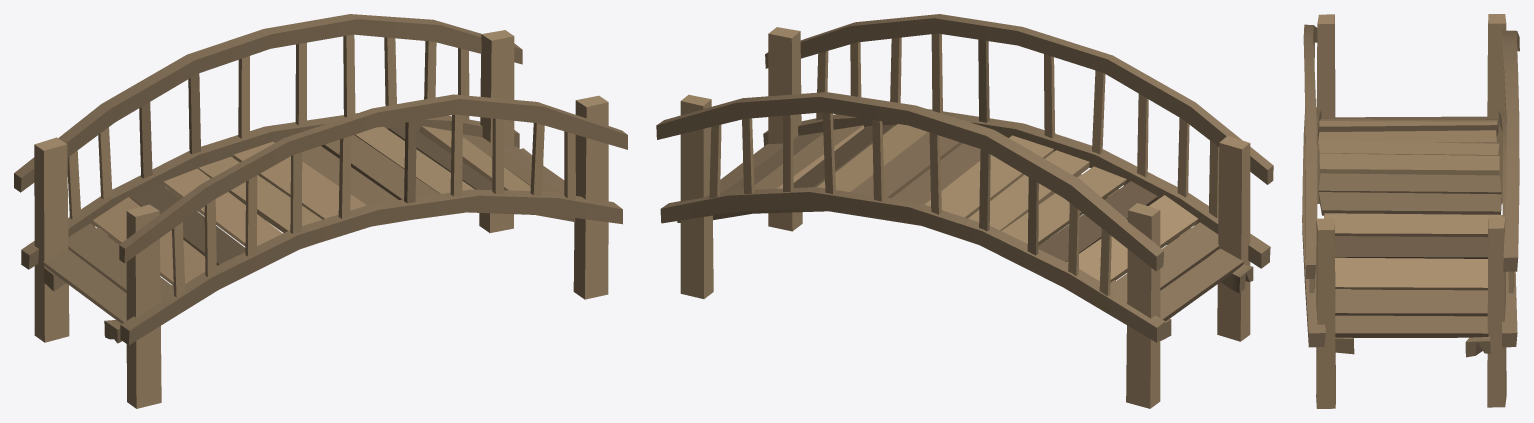
The model's file is bridge.fbx.
3 views of the same model, side by side, from view 1: azimuth 30°, elevation 25°; view 2: azimuth 150°, elevation 25°; view 3: azimuth 270°, elevation 25° (orthographic). The views are drawn at different scales.
Parts seen in each view (by area): view 1: PT_Wooden_Bridge_02_LOD0; view 2: PT_Wooden_Bridge_02_LOD0; view 3: PT_Wooden_Bridge_02_LOD0.
Part boxes in pixels (x1,y1,x2,y2): PT_Wooden_Bridge_02_LOD0: (14, 14, 627, 408); PT_Wooden_Bridge_02_LOD0: (656, 14, 1273, 408); PT_Wooden_Bridge_02_LOD0: (1302, 14, 1519, 408).
Bounding box in the file's own units: 447 × 208 × 179.
